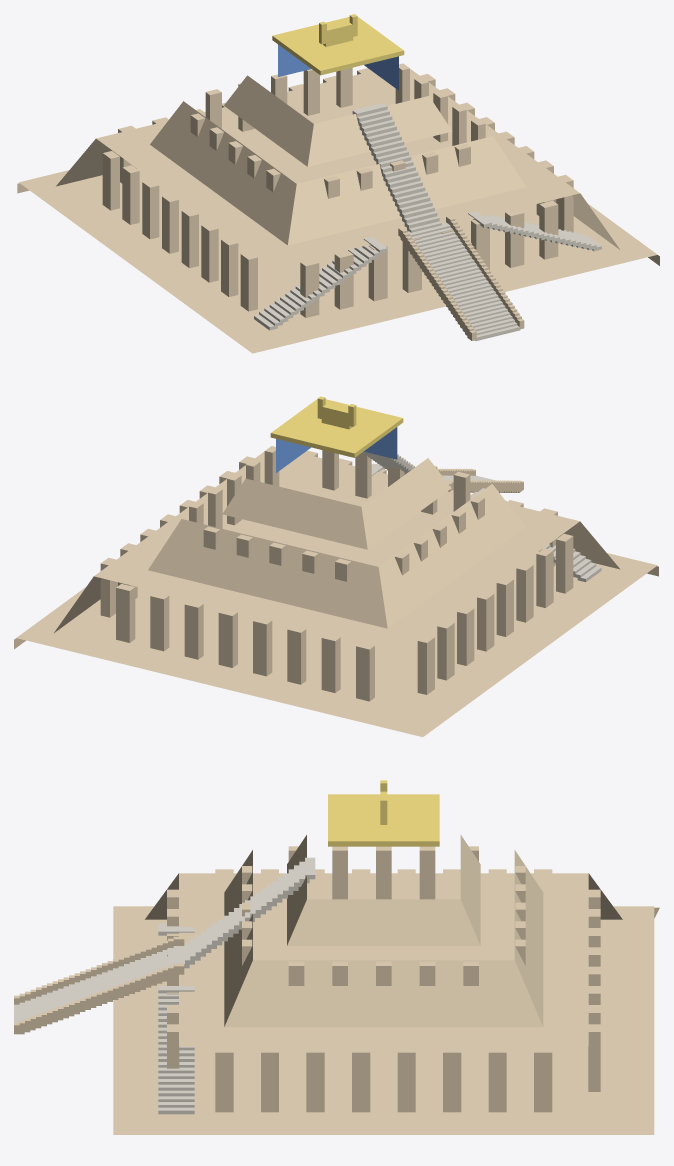
The model's file is ziggurat_monument_high.glb.
3 views of the same model, one above another, from view 1: azimuth 30°, elevation 25°; view 2: azimuth 150°, elevation 25°; view 3: azimuth 270°, elevation 25° (orthographic). The views are drawn at different scales.
Size of the model in its own units: 48 by 23.9 by 56.72.
